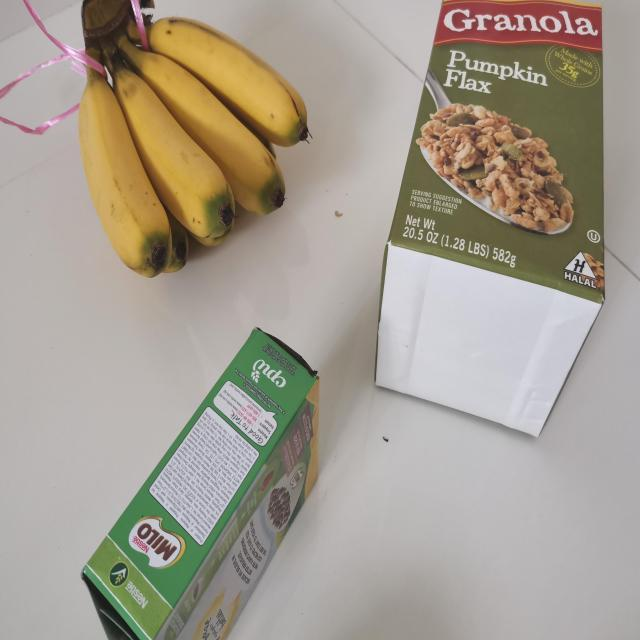banana: (73, 0, 311, 281)
